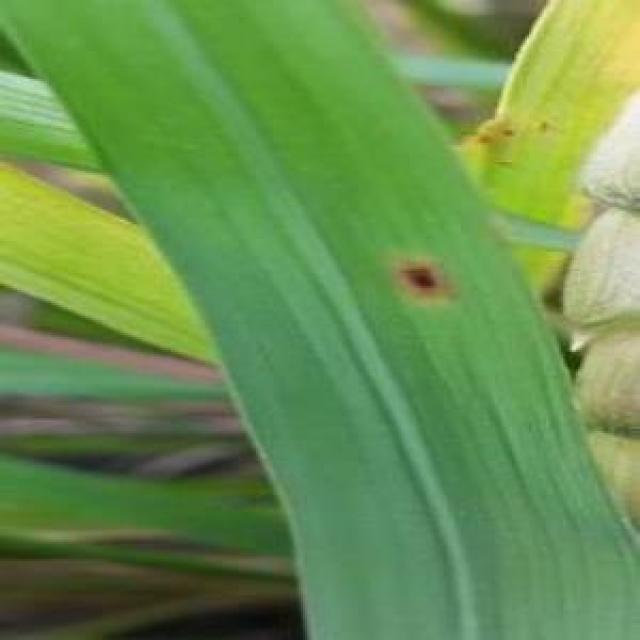Brown_Spot: (388, 249, 451, 303)
